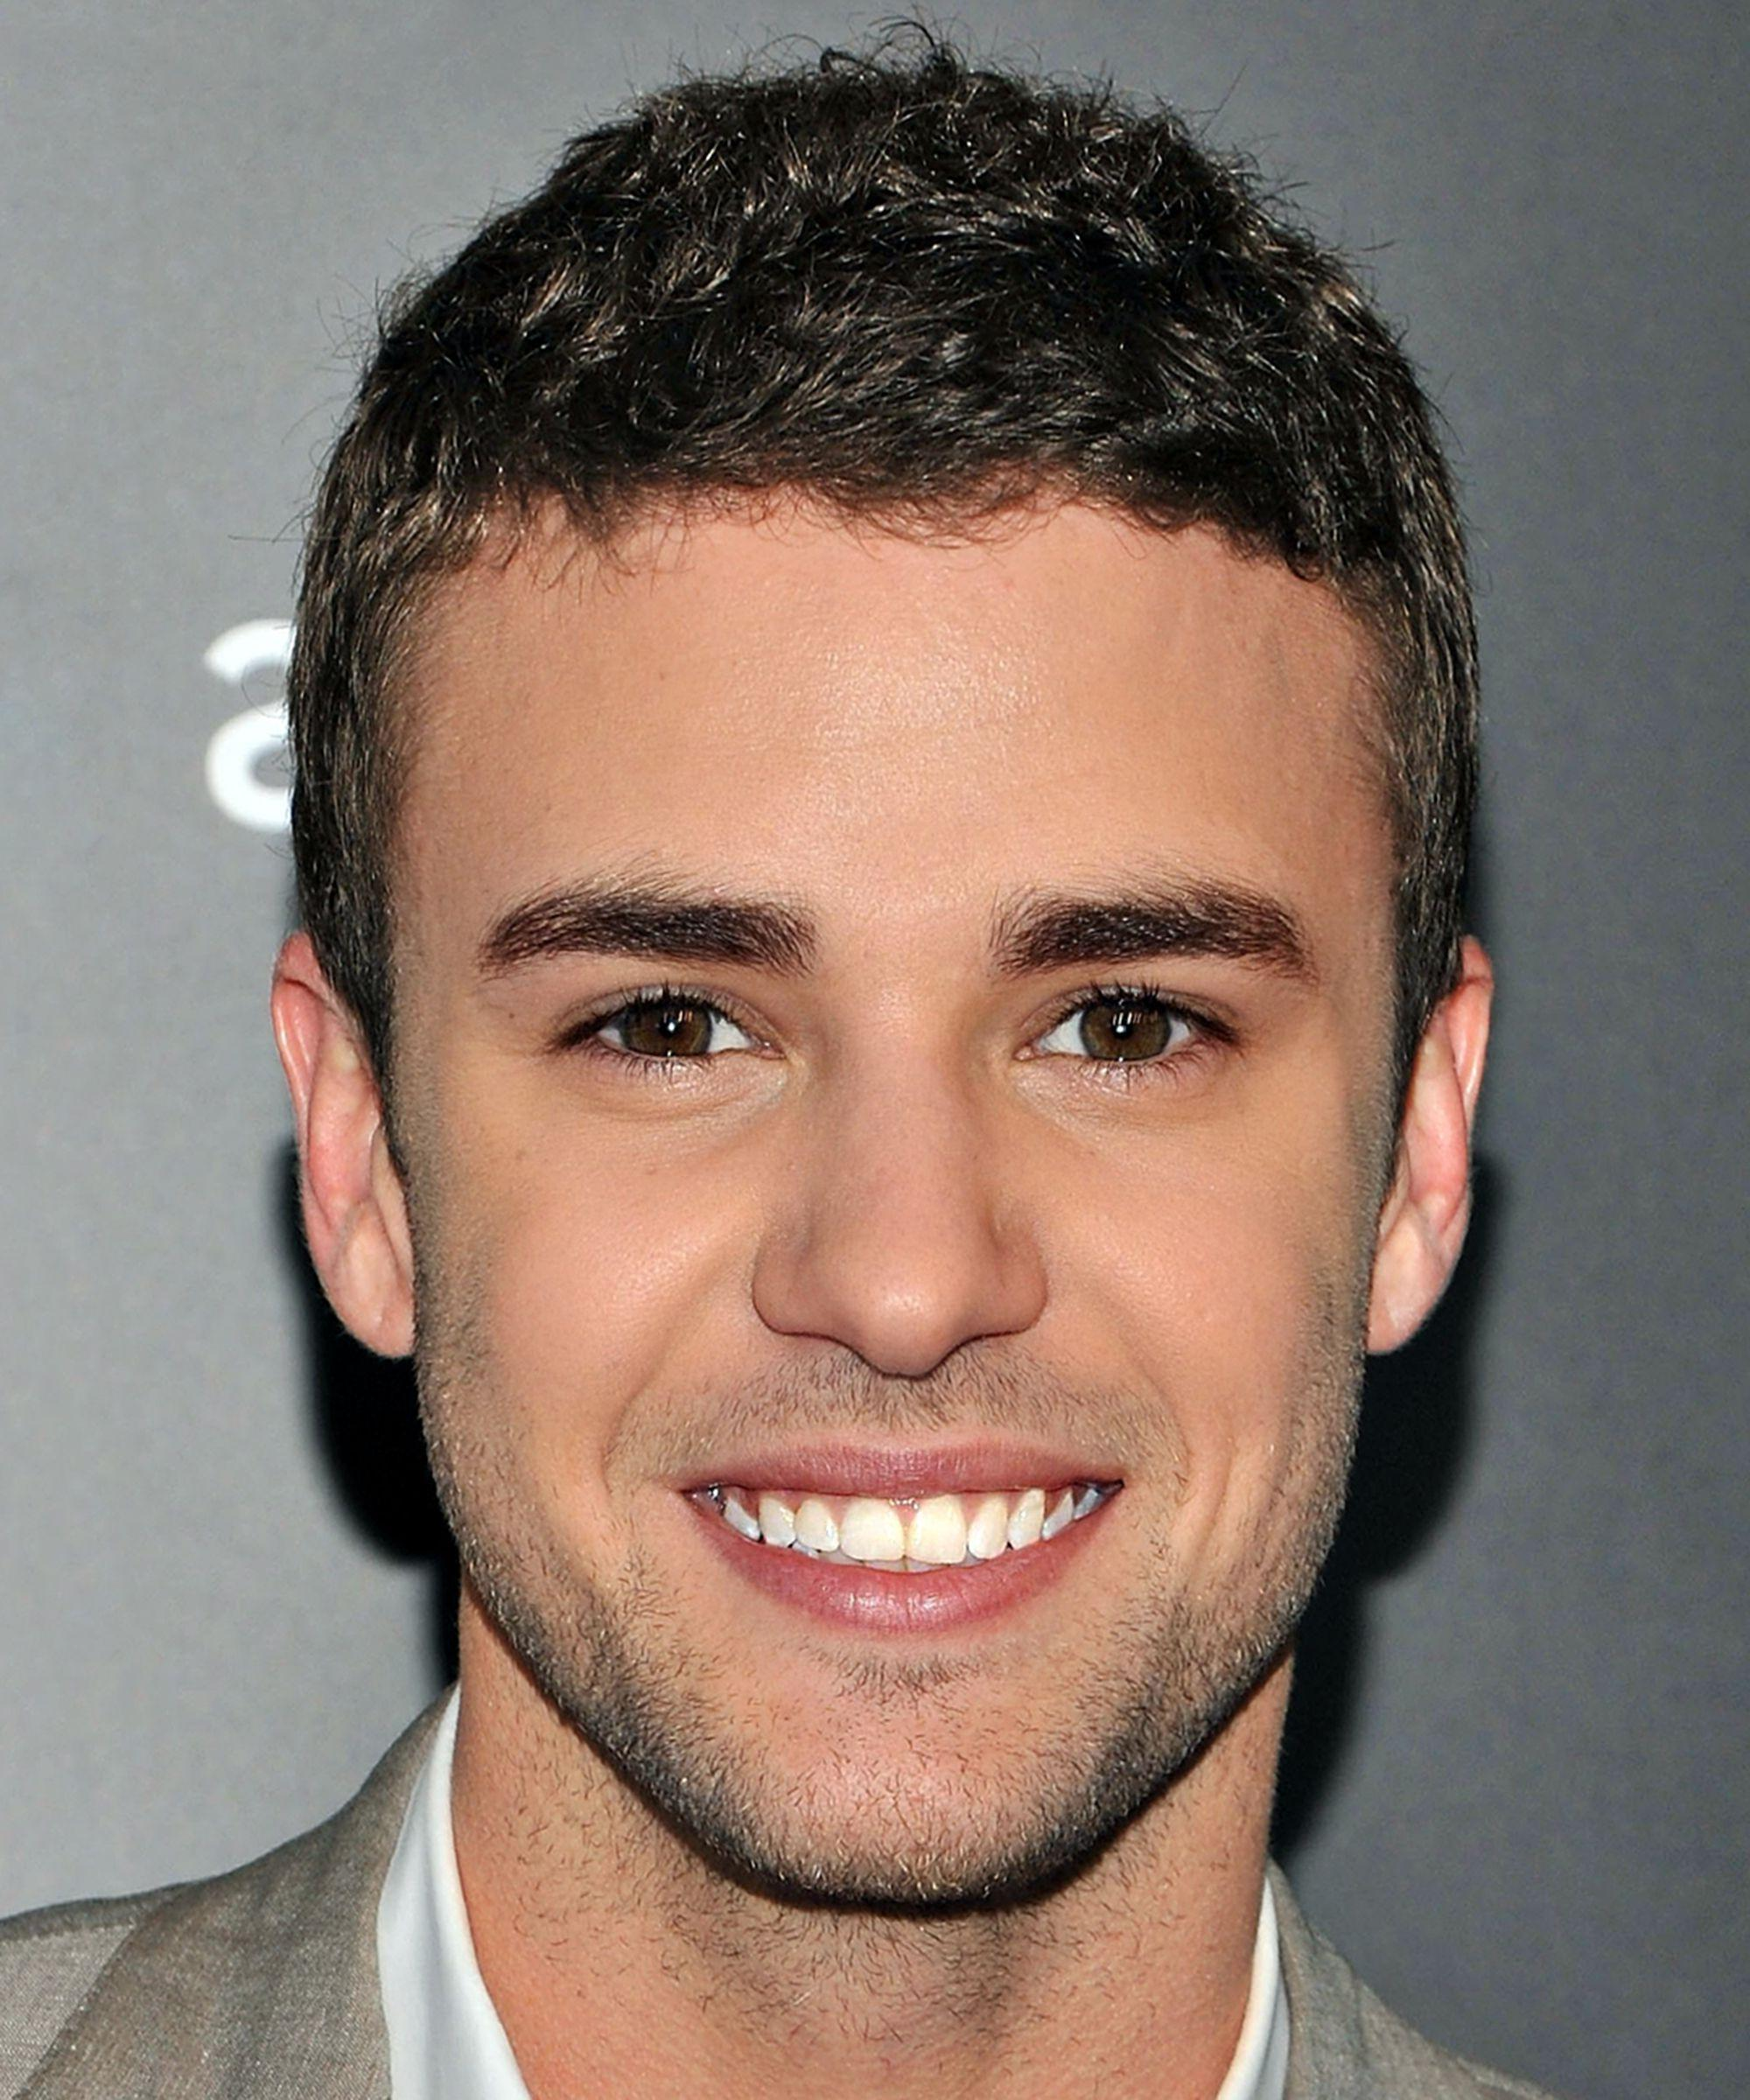Sober: (344, 535, 1387, 1702)
